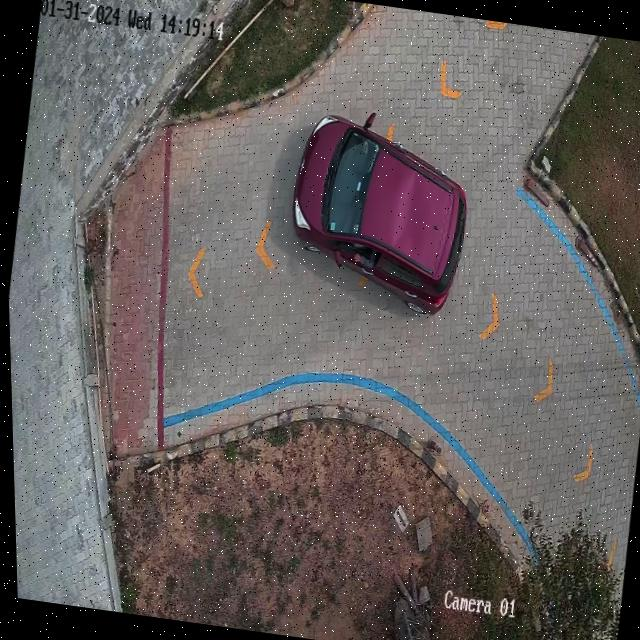car: (291, 114, 466, 315)
